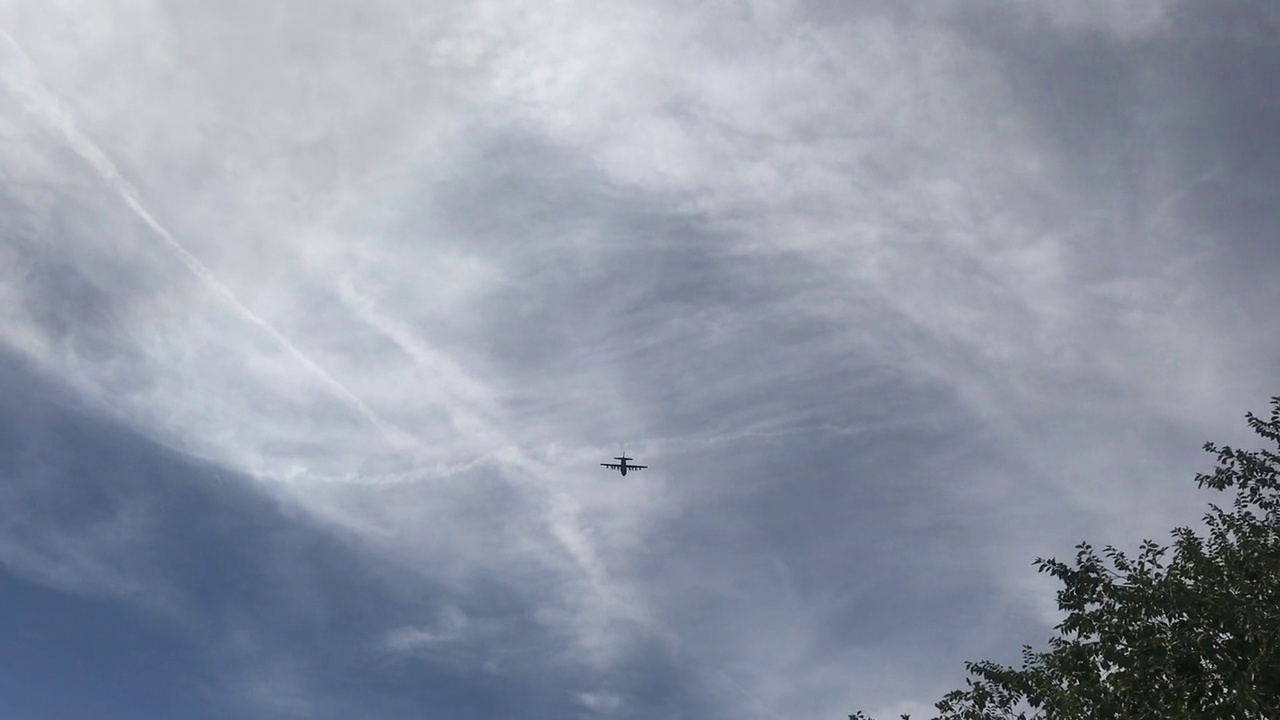plane: (600, 450, 648, 476)
